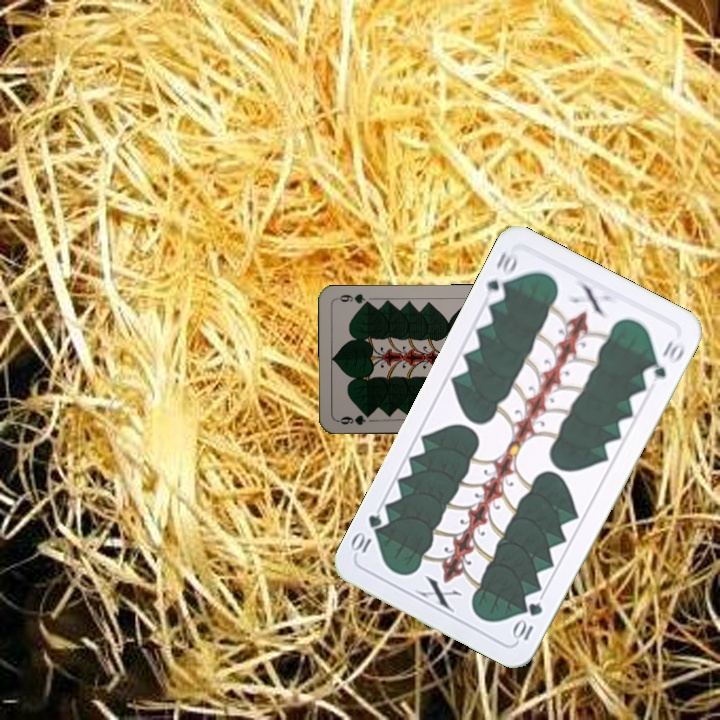G10: (481, 247, 522, 306), (509, 597, 546, 645)
G9: (334, 409, 374, 428)
